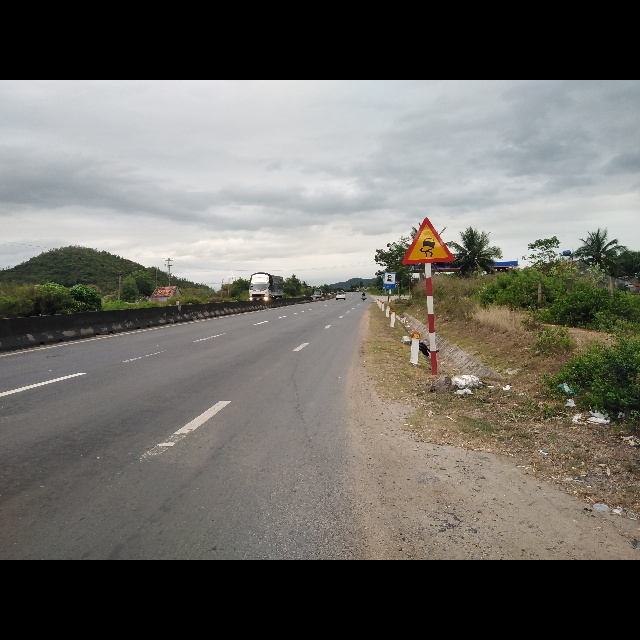Đường trơn trượt: (402, 215, 454, 265)
